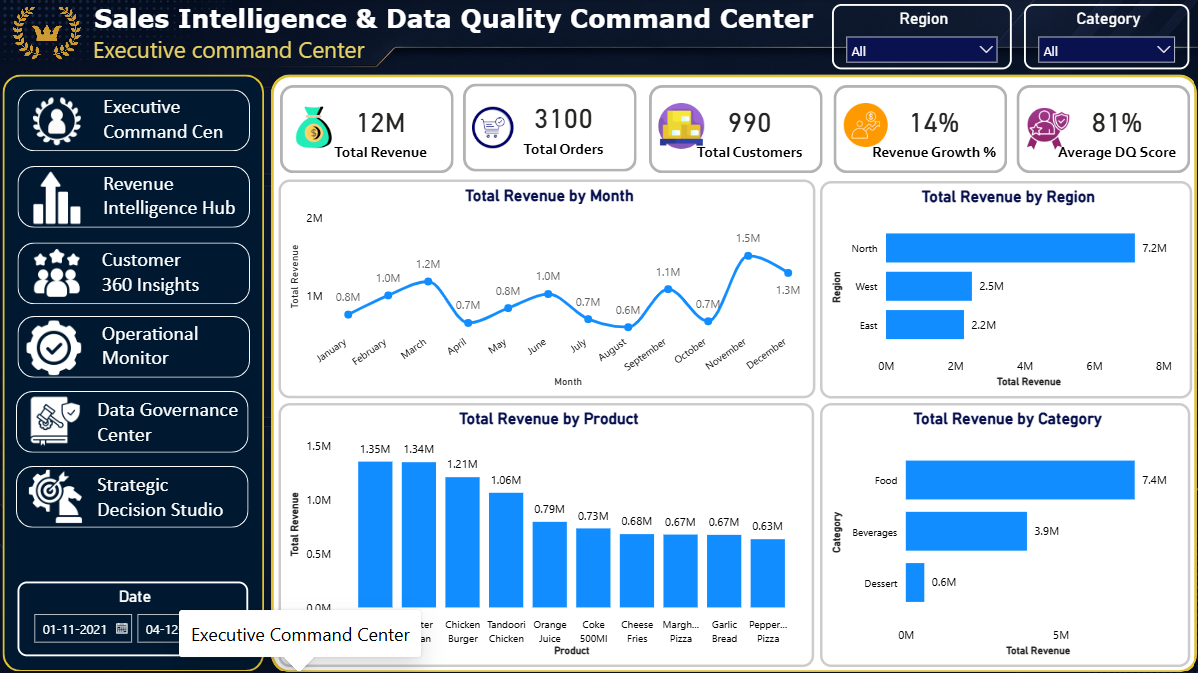

The dashboard page shown, as its layout file describes it:
{"tool":"powerbi","page":{"name":"Executive Command Center","canvas":[1280,720],"ordinal":0},"visuals":[{"type":"textbox","box":[0,0,1281.2,75.3],"z":0,"group":"g15"},{"type":"group","id":"g1","title":"Center","box":[292,81.1,983,634.7],"z":0},{"type":"shape","box":[292,81.1,983,634.7],"z":0,"group":"g1"},{"type":"shape","box":[7.7,81.2,277.3,633.6],"z":0,"group":"g2"},{"type":"shape","box":[495.5,91.2,184.3,93.5],"z":0,"group":"g9"},{"type":"shape","box":[301.7,92.1,184.3,93.5],"z":0,"group":"g11"},{"type":"shape","box":[692.9,92.6,184.3,93.5],"z":0,"group":"g6"},{"type":"shape","box":[887.9,92.6,184.3,93.5],"z":0,"group":"g4"},{"type":"shape","box":[1082.9,92.6,184.3,93.5],"z":0,"group":"g3"},{"type":"textbox","box":[109.5,97.4,161.8,67.4],"z":0,"group":"g14"},{"type":"textbox","box":[109.5,178,161.8,67.4],"z":0,"group":"g13"},{"type":"textbox","box":[107.5,258.8,148.3,65.5],"z":0,"group":"g12"},{"type":"textbox","box":[107.5,338.1,161.8,65.5],"z":0,"group":"g10"},{"type":"textbox","box":[104.7,417.6,167.5,65.5],"z":0,"group":"g7"},{"type":"textbox","box":[104.7,497.7,161.8,63.6],"z":0,"group":"g5"},{"type":"group","id":"g2","title":"Base","box":[0,0,1281.2,714.8],"z":1000},{"type":"image","box":[15.4,9,77.1,55.5],"z":1000,"group":"g15"},{"type":"card","fields":{"Values":["Measure.Total Orders"]},"box":[524.5,89.1,155.1,92.6],"z":1000,"group":"g9"},{"type":"card","fields":{"Values":["Measure.Total Revenue"]},"box":[330.7,92.1,155.3,93.5],"z":1000,"group":"g11"},{"type":"card","fields":{"Values":["Measure.Total Customers"]},"box":[721.9,92.6,155.3,93.5],"z":1000,"group":"g6"},{"type":"card","fields":{"Values":["Measure.Revenue Growth %"]},"box":[916.9,92.6,155.3,93.5],"z":1000,"group":"g4"},{"type":"group","id":"g3","title":"Card-5","box":[1082.9,92.6,184.3,93.5],"z":1000,"group":"g8"},{"type":"card","fields":{"Values":["Measure.Average DQ Score"]},"box":[1111.9,92.6,155.3,93.5],"z":1000,"group":"g3"},{"type":"shape","box":[23.3,97.8,246.5,65.5],"z":1000,"group":"g14"},{"type":"shape","box":[23.3,178.4,246.5,65.5],"z":1000,"group":"g13"},{"type":"shape","box":[23.3,258.5,246.5,65.5],"z":1000,"group":"g12"},{"type":"shape","box":[23.3,337.5,246.5,65.5],"z":1000,"group":"g10"},{"type":"shape","box":[23,416.7,246.5,65.5],"z":1000,"group":"g7"},{"type":"clusteredBarChart","fields":{"Category":["Dim_Product.Category"],"Y":["Measure.Total Revenue"]},"box":[874.1,429.3,392.9,279.9],"z":1000,"group":"g1"},{"type":"shape","box":[22.8,495.8,246.5,65.5],"z":1000,"group":"g5"},{"type":"slicer","title":"Date","fields":{"Values":["Dim_Date.Date"]},"box":[23.4,618.7,245,79.5],"z":1000,"group":"g2"},{"type":"group","id":"g4","title":"Card-4","box":[887.9,92.6,184.3,93.5],"z":2000,"group":"g8"},{"type":"image","box":[36.8,101.7,57.8,57.8],"z":2000,"group":"g14"},{"type":"image","box":[898,111.6,49.2,46.8],"z":2000,"group":"g4"},{"type":"image","box":[1091,111.6,50.8,54.9],"z":2000,"group":"g3"},{"type":"image","box":[311.5,111.8,52.5,51.6],"z":2000,"group":"g11"},{"type":"image","box":[701.1,112,52.5,48.4],"z":2000,"group":"g6"},{"type":"image","box":[505.3,112.1,44.3,51.6],"z":2000,"group":"g9"},{"type":"image","box":[36.8,182.3,57.8,57.8],"z":2000,"group":"g13"},{"type":"clusteredBarChart","fields":{"Y":["Measure.Total Revenue"],"Category":["Dim_Location.Region"]},"box":[874.8,194.1,394.5,230.6],"z":2000},{"type":"image","box":[36.8,262.4,57.8,57.8],"z":2000,"group":"g12"},{"type":"image","box":[32.4,341.9,57.8,57.8],"z":2000,"group":"g10"},{"type":"image","box":[36.5,420.6,57.8,57.8],"z":2000,"group":"g7"},{"type":"clusteredColumnChart","fields":{"Y":["Measure.Total Revenue"],"Category":["Dim_Product.Product"]},"box":[299.9,429.7,568.2,279.8],"z":2000,"group":"g1"},{"type":"group","id":"g5","title":"Button-6","box":[22.8,495.8,246.5,65.5],"z":2000,"group":"g2"},{"type":"image","box":[36.3,499.7,57.8,57.8],"z":2000,"group":"g5"},{"type":"group","id":"g6","title":"Card-3","box":[692.9,92.6,184.3,93.5],"z":3000,"group":"g8"},{"type":"lineChart","fields":{"Category":["Dim_Date.Date.Variation.Date Hierarchy.Month"],"Y":["Measure.Total Revenue"]},"box":[300,192.4,569.4,232.2],"z":3000,"group":"g1"},{"type":"group","id":"g7","title":"Button-5","box":[23,416.7,249.3,66.4],"z":3000,"group":"g2"},{"type":"group","id":"g8","title":"Group 1","box":[301.7,89.1,965.5,97],"z":4000,"group":"g1"},{"type":"group","id":"g9","title":"Card-2","box":[495.5,89.1,184.3,95.6],"z":4000,"group":"g8"},{"type":"group","id":"g10","title":"Button-4","box":[23.3,337.5,246.5,66.1],"z":4000,"group":"g2"},{"type":"group","id":"g11","title":"Card-1","box":[301.7,92.1,184.3,93.5],"z":5000,"group":"g8"},{"type":"group","id":"g12","title":"Button-3","box":[23.3,258.5,246.5,65.8],"z":5000,"group":"g2"},{"type":"group","id":"g13","title":"Button-2","box":[23.3,178,247.9,67.4],"z":6000,"group":"g2"},{"type":"group","id":"g14","title":"Button-1","box":[23.3,97.4,248.4,67.4],"z":7000,"group":"g2"},{"type":"slicer","title":"Category","fields":{"Values":["Dim_Product.Category"]},"box":[1091.9,5.8,175.2,69.3],"z":8000,"group":"g2"},{"type":"slicer","title":"Region","fields":{"Values":["Dim_Location.Region"]},"box":[887.8,5.8,190.7,69.3],"z":9000,"group":"g2"},{"type":"group","id":"g15","title":"Header","box":[0,0,1281.2,75.3],"z":10000,"group":"g2"}]}

Visuals, with their boxes on the page's 1280x720 design canvas (x1, y1, x2, y2). These are canvas units, not pixel positions in the 1198x673 screenshot, which may show the page scaled, cropped or inside an application window:
textbox: (left=0, top=0, right=1281, bottom=75)
"Center" group: (left=292, top=81, right=1275, bottom=716)
shape: (left=292, top=81, right=1275, bottom=716)
shape: (left=8, top=81, right=285, bottom=715)
shape: (left=496, top=91, right=680, bottom=185)
shape: (left=302, top=92, right=486, bottom=186)
shape: (left=693, top=93, right=877, bottom=186)
shape: (left=888, top=93, right=1072, bottom=186)
shape: (left=1083, top=93, right=1267, bottom=186)
textbox: (left=110, top=97, right=271, bottom=165)
textbox: (left=110, top=178, right=271, bottom=245)
textbox: (left=108, top=259, right=256, bottom=324)
textbox: (left=108, top=338, right=269, bottom=404)
textbox: (left=105, top=418, right=272, bottom=483)
textbox: (left=105, top=498, right=266, bottom=561)
"Base" group: (left=0, top=0, right=1281, bottom=715)
image: (left=15, top=9, right=92, bottom=64)
card - Measure.Total Orders: (left=524, top=89, right=680, bottom=182)
card - Measure.Total Revenue: (left=331, top=92, right=486, bottom=186)
card - Measure.Total Customers: (left=722, top=93, right=877, bottom=186)
card - Measure.Revenue Growth %: (left=917, top=93, right=1072, bottom=186)
"Card-5" group: (left=1083, top=93, right=1267, bottom=186)
card - Measure.Average DQ Score: (left=1112, top=93, right=1267, bottom=186)
shape: (left=23, top=98, right=270, bottom=163)
shape: (left=23, top=178, right=270, bottom=244)
shape: (left=23, top=258, right=270, bottom=324)
shape: (left=23, top=338, right=270, bottom=403)
shape: (left=23, top=417, right=270, bottom=482)
clusteredBarChart - Dim_Product.Category x Measure.Total Revenue: (left=874, top=429, right=1267, bottom=709)
shape: (left=23, top=496, right=269, bottom=561)
"Date" slicer: (left=23, top=619, right=268, bottom=698)
"Card-4" group: (left=888, top=93, right=1072, bottom=186)
image: (left=37, top=102, right=95, bottom=160)
image: (left=898, top=112, right=947, bottom=158)
image: (left=1091, top=112, right=1142, bottom=166)
image: (left=312, top=112, right=364, bottom=163)
image: (left=701, top=112, right=754, bottom=160)
image: (left=505, top=112, right=550, bottom=164)
image: (left=37, top=182, right=95, bottom=240)
clusteredBarChart - Measure.Total Revenue x Dim_Location.Region: (left=875, top=194, right=1269, bottom=425)
image: (left=37, top=262, right=95, bottom=320)
image: (left=32, top=342, right=90, bottom=400)
image: (left=36, top=421, right=94, bottom=478)
clusteredColumnChart - Measure.Total Revenue x Dim_Product.Product: (left=300, top=430, right=868, bottom=710)
"Button-6" group: (left=23, top=496, right=269, bottom=561)
image: (left=36, top=500, right=94, bottom=558)
"Card-3" group: (left=693, top=93, right=877, bottom=186)
lineChart - Dim_Date.Date.Variation.Date Hierarchy.Month x Measure.Total Revenue: (left=300, top=192, right=869, bottom=425)
"Button-5" group: (left=23, top=417, right=272, bottom=483)
"Group 1" group: (left=302, top=89, right=1267, bottom=186)
"Card-2" group: (left=496, top=89, right=680, bottom=185)
"Button-4" group: (left=23, top=338, right=270, bottom=404)
"Card-1" group: (left=302, top=92, right=486, bottom=186)
"Button-3" group: (left=23, top=258, right=270, bottom=324)
"Button-2" group: (left=23, top=178, right=271, bottom=245)
"Button-1" group: (left=23, top=97, right=272, bottom=165)
"Category" slicer: (left=1092, top=6, right=1267, bottom=75)
"Region" slicer: (left=888, top=6, right=1078, bottom=75)
"Header" group: (left=0, top=0, right=1281, bottom=75)
